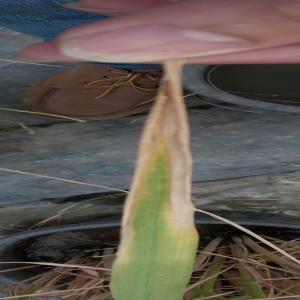2 BacterialBlight: (115, 126, 197, 300)
